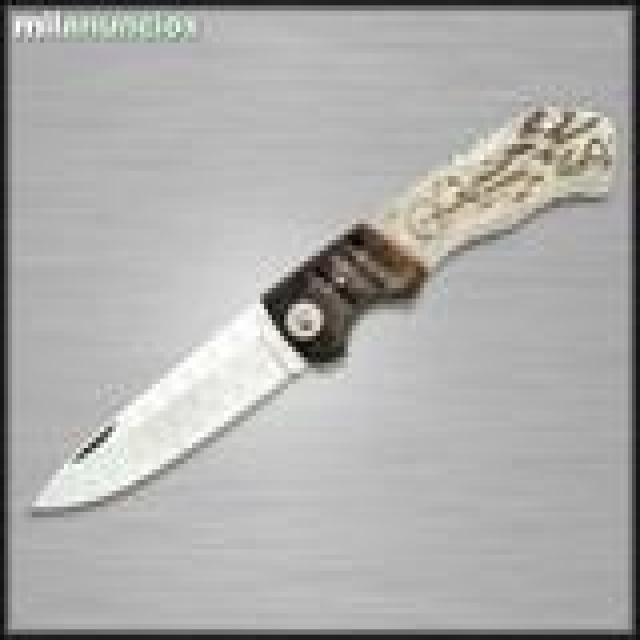Knife: (39, 95, 615, 560)
